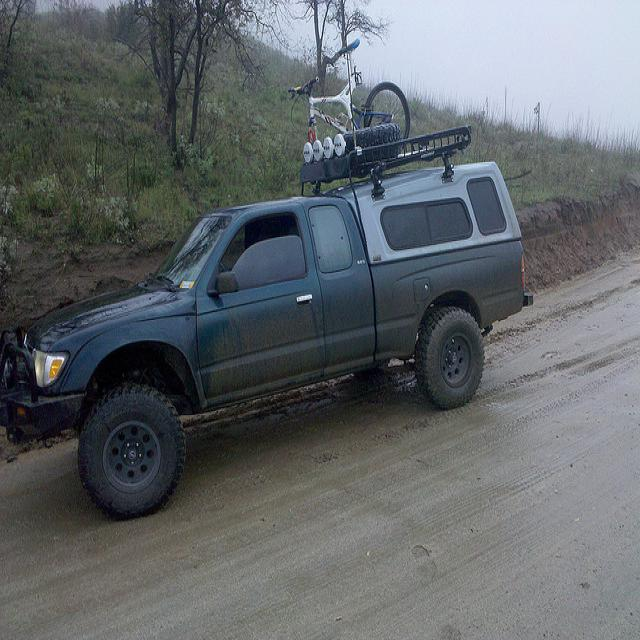Vehicle: (0, 161, 535, 519)
